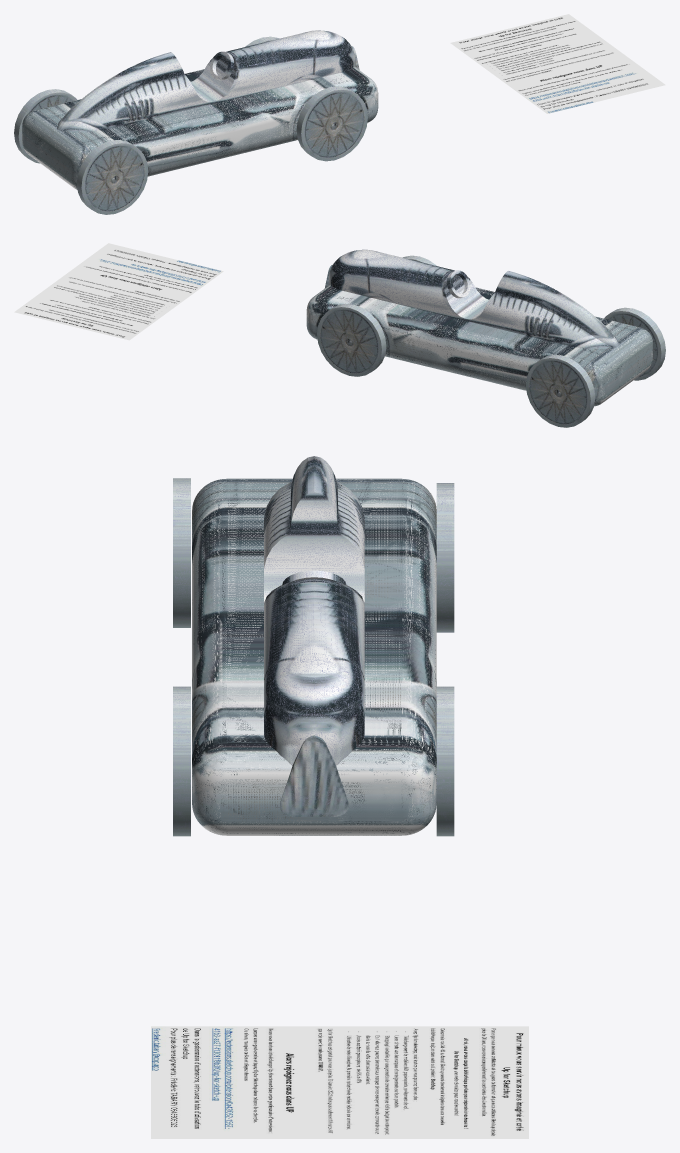
The picture shows the model from 3 angles, top to bottom: view 1: azimuth 30°, elevation 25°; view 2: azimuth 150°, elevation 25°; view 3: azimuth 270°, elevation 25°; orthographic projection. The views are drawn at different scales.
Visible parts, largest first — view 1: group_0 (×2), image_0, group_2, group_1, group_6, group_4; view 2: group_0 (×2), image_0, group_5, group_6, group_1, group_4; view 3: group_0 (×2), image_0, group_3, group_5, group_6, group_2, group_1.
Boxes of the visible parts, x1,y1,x2,y2 form: group_0 (×2): [22, 30, 378, 189]; image_0: [450, 14, 665, 113]; group_2: [296, 86, 367, 161]; group_1: [77, 140, 148, 214]; group_6: [14, 89, 77, 163]; group_4: [210, 51, 233, 80]; group_0 (×2): [306, 249, 652, 406]; image_0: [14, 243, 223, 340]; group_5: [317, 303, 386, 376]; group_6: [526, 354, 595, 427]; group_1: [604, 307, 665, 380]; group_4: [447, 270, 470, 298]; group_0 (×2): [192, 456, 436, 835]; image_0: [151, 1026, 528, 1138]; group_3: [280, 735, 348, 816]; group_5: [436, 686, 454, 836]; group_6: [436, 483, 454, 632]; group_2: [173, 686, 190, 836]; group_1: [173, 478, 190, 627].
Bounding box in the file's own units: 19.99 × 5.81 × 3.7.
Materials: 5 (4 with a texture image).
